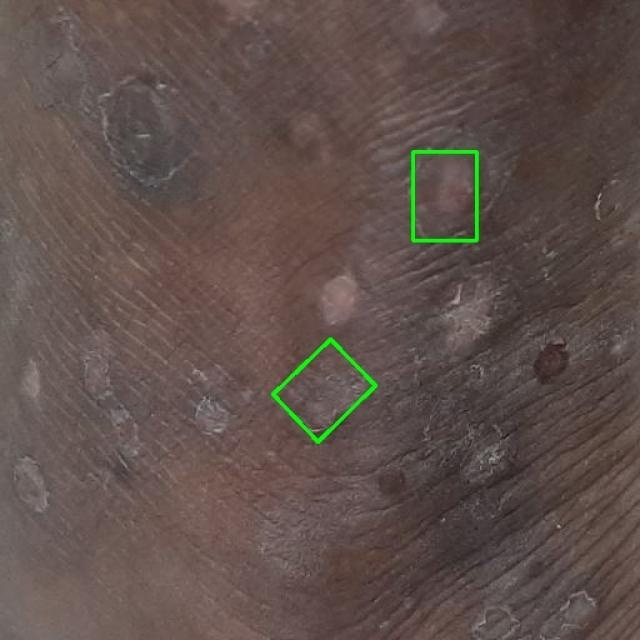Contact Dermatitis: (273, 339, 376, 441), (412, 151, 476, 240)
